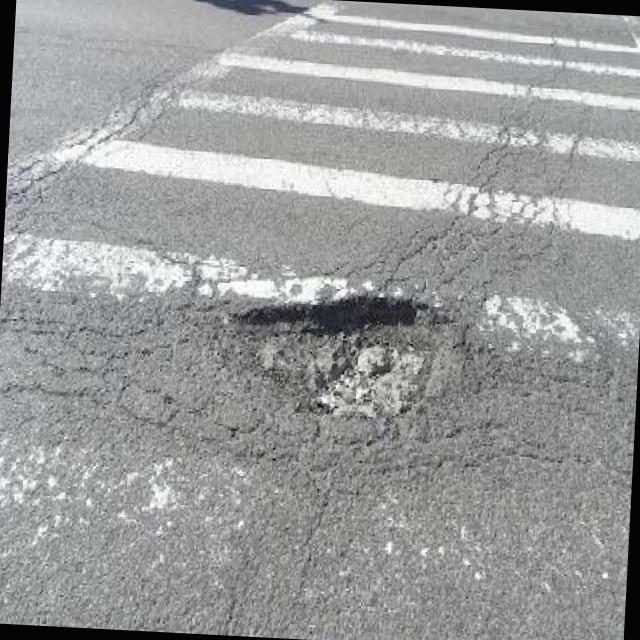Lubang: (233, 291, 461, 418)
